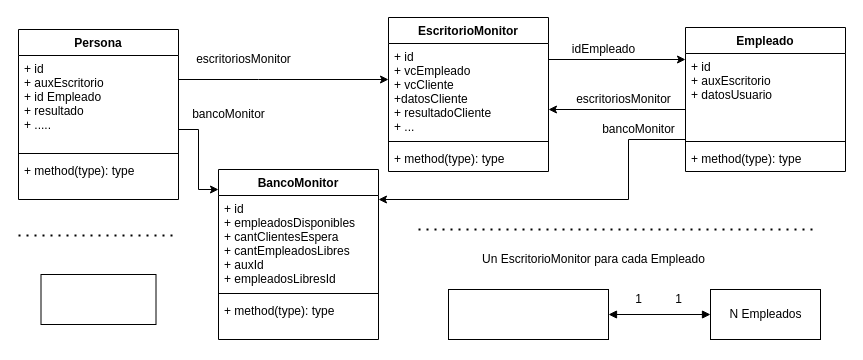
Image size: 863x360. Some labels were removed from this diagram. Each missing label, with the centre of its shape:
N EscritorioMonitor: (x=528, y=314)
N Personas: (x=98, y=299)
